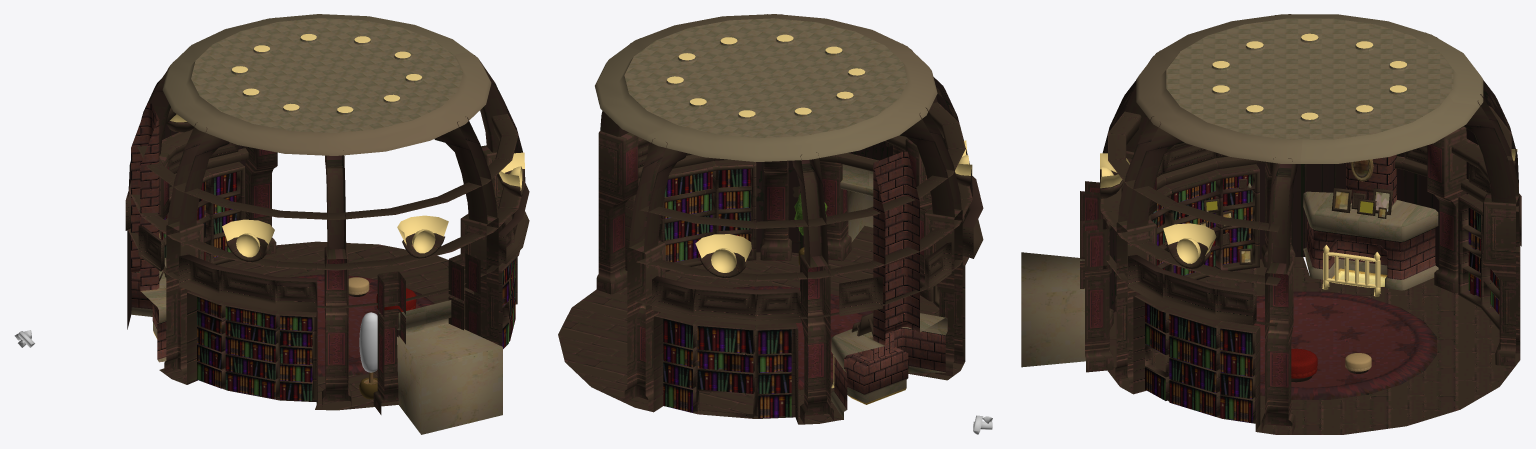
Rendered from the-library.gltf.
3 renders of one model, left to right at view 1: azimuth 30°, elevation 25°; view 2: azimuth 150°, elevation 25°; view 3: azimuth 270°, elevation 25°, orthographic. The views are drawn at different scales.
Visible parts, largest first — view 1: Library Roof, Wall Frames, Pillars, Bookshelf 2, Entrance Exit, Library Floor, Fireplace, Wall Lamps, Bookshelf 3, Carpet, Bookshelf 1, Flower B (+2 smaller); view 2: Library Roof, Wall Frames, Pillars, Fireplace, Bookshelf 3, Library Floor, Bookshelf 1, Library Walls, Wall Lamps, Entrance Exit, Carpet, Roof Lamps (+1 smaller); view 3: Library Roof, Wall Frames, Pillars, Library Floor, Carpet, Bookshelf 1, Fireplace, Entrance Exit, Bookshelf 2, Library Walls, Bookshelf 3, Wall Lamps (+5 smaller).
Boxes of the visible parts, x1=… form: Library Roof: x1=162, y1=14, x2=491, y2=155; Wall Frames: x1=125, y1=17, x2=529, y2=312; Pillars: x1=159, y1=145, x2=514, y2=414; Bookshelf 2: x1=187, y1=291, x2=317, y2=408; Entrance Exit: x1=397, y1=300, x2=502, y2=434; Library Floor: x1=159, y1=241, x2=473, y2=410; Fireplace: x1=131, y1=103, x2=166, y2=362; Wall Lamps: x1=167, y1=114, x2=524, y2=262; Bookshelf 3: x1=159, y1=161, x2=244, y2=264; Carpet: x1=291, y1=274, x2=434, y2=376; Bookshelf 1: x1=498, y1=216, x2=519, y2=348; Flower B: x1=359, y1=312, x2=377, y2=399; Library Roof: x1=595, y1=14, x2=937, y2=161; Wall Frames: x1=600, y1=14, x2=983, y2=324; Pillars: x1=596, y1=131, x2=963, y2=424; Fireplace: x1=831, y1=151, x2=947, y2=419; Bookshelf 3: x1=653, y1=312, x2=798, y2=423; Library Floor: x1=558, y1=225, x2=964, y2=424; Bookshelf 1: x1=625, y1=160, x2=756, y2=271; Library Walls: x1=756, y1=77, x2=972, y2=253; Wall Lamps: x1=695, y1=140, x2=972, y2=277; Entrance Exit: x1=840, y1=164, x2=873, y2=242; Carpet: x1=659, y1=285, x2=873, y2=390; Roof Lamps: x1=667, y1=34, x2=865, y2=117; Library Roof: x1=1136, y1=14, x2=1483, y2=163; Wall Frames: x1=1100, y1=14, x2=1521, y2=326; Pillars: x1=1080, y1=126, x2=1520, y2=433; Library Floor: x1=1107, y1=257, x2=1520, y2=434; Carpet: x1=1254, y1=291, x2=1437, y2=399; Bookshelf 1: x1=1133, y1=294, x2=1260, y2=431; Fireplace: x1=1303, y1=154, x2=1438, y2=290; Entrance Exit: x1=1021, y1=252, x2=1085, y2=367; Bookshelf 2: x1=1148, y1=164, x2=1259, y2=279; Library Walls: x1=1099, y1=80, x2=1518, y2=312; Bookshelf 3: x1=1458, y1=194, x2=1520, y2=341; Wall Lamps: x1=1100, y1=149, x2=1517, y2=269.
Size of the model in its own units: 22.57 by 12.66 by 21.12.
